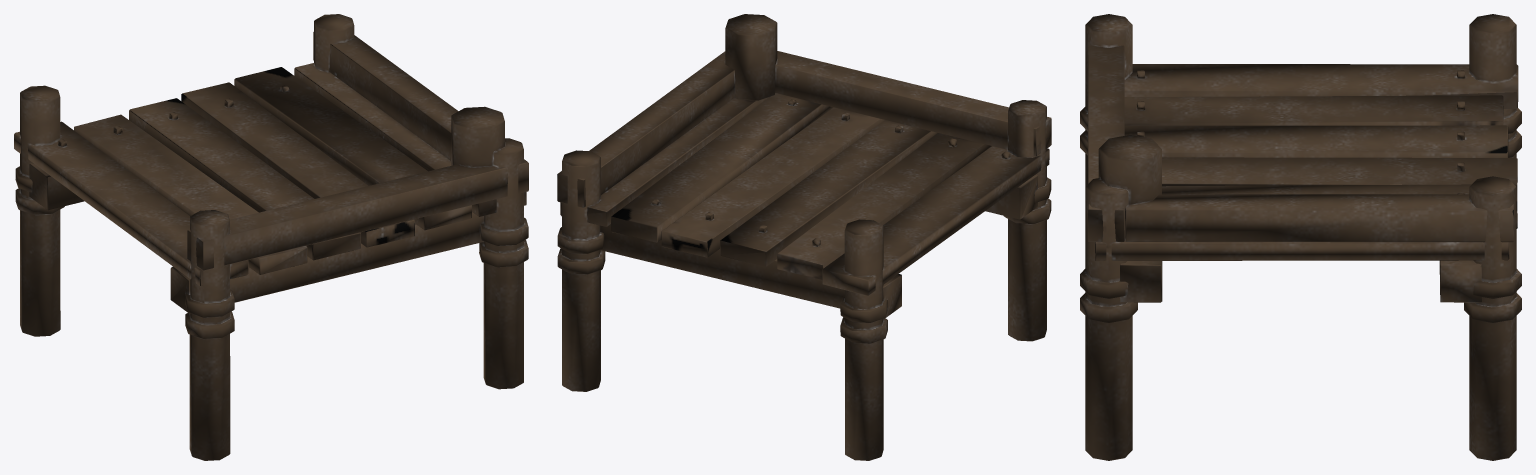
The model's file is Muelle_Esquina.fbx.
3 renders of one model, left to right at view 1: azimuth 30°, elevation 25°; view 2: azimuth 150°, elevation 25°; view 3: azimuth 270°, elevation 25°, orthographic. The views are drawn at different scales.
Visible parts, largest first — view 1: Muelle_Esquina; view 2: Muelle_Esquina; view 3: Muelle_Esquina.
Part boxes in pixels (x1,y1,x2,y2): Muelle_Esquina: (14,14,528,460); Muelle_Esquina: (557,14,1051,460); Muelle_Esquina: (1080,14,1521,460).
Bounding box in the file's own units: 8.29 × 6.1 × 8.29.
